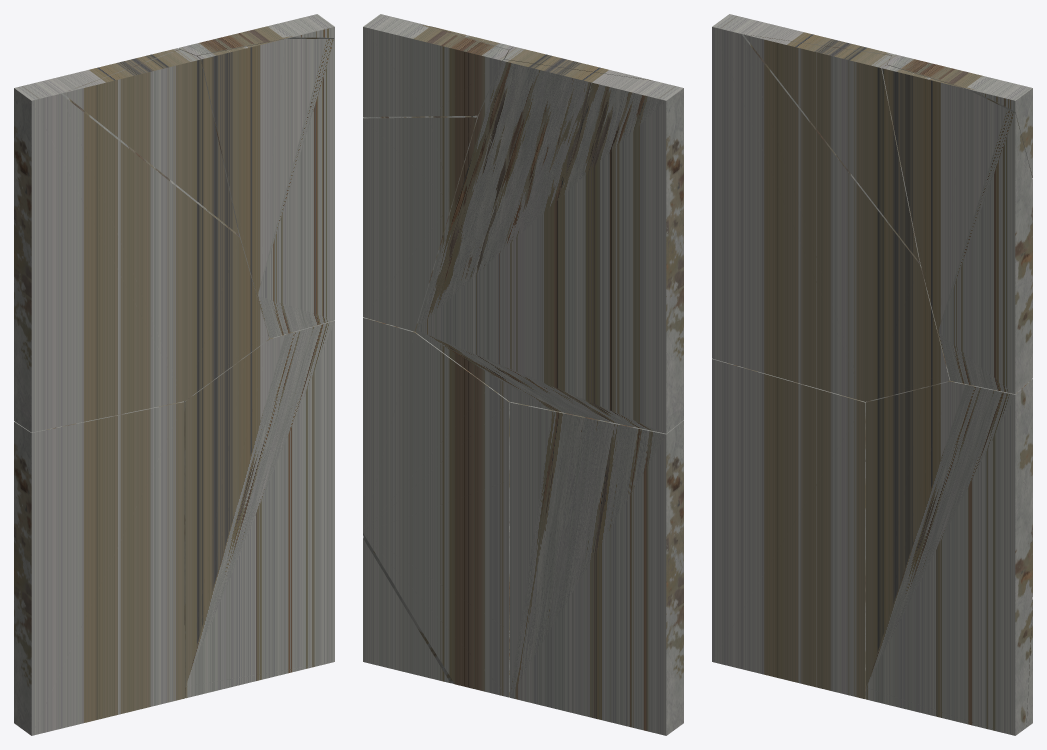
Rendered from wall_broken.fbx.
3 renders of one model, left to right at view 1: azimuth 30°, elevation 25°; view 2: azimuth 150°, elevation 25°; view 3: azimuth 330°, elevation 25°, orthographic.
Parts seen in each view (by area): view 1: Breakable Wall_cell.005, Breakable Wall_cell.004, Breakable Wall_cell, Breakable Wall_cell.002, Breakable Wall_cell.003, Breakable Wall_cell.007; view 2: Breakable Wall_cell.005, Breakable Wall_cell.004, Breakable Wall_cell, Breakable Wall_cell.002, Breakable Wall_cell.007, Breakable Wall_cell.006, Breakable Wall_cell.003; view 3: Breakable Wall_cell.005, Breakable Wall_cell, Breakable Wall_cell.004, Breakable Wall_cell.002, Breakable Wall_cell.003, Breakable Wall_cell.007.
Boxes of the visible parts, bbox=[...] form: Breakable Wall_cell.005: bbox=[14, 48, 268, 432]; Breakable Wall_cell.004: bbox=[14, 401, 184, 735]; Breakable Wall_cell: bbox=[184, 320, 334, 698]; Breakable Wall_cell.002: bbox=[197, 38, 334, 338]; Breakable Wall_cell.003: bbox=[63, 49, 238, 234]; Breakable Wall_cell.007: bbox=[179, 14, 334, 56]; Breakable Wall_cell.005: bbox=[415, 59, 683, 433]; Breakable Wall_cell.004: bbox=[509, 402, 683, 735]; Breakable Wall_cell: bbox=[363, 317, 510, 697]; Breakable Wall_cell.002: bbox=[363, 26, 513, 331]; Breakable Wall_cell.007: bbox=[363, 14, 508, 116]; Breakable Wall_cell.006: bbox=[363, 538, 450, 683]; Breakable Wall_cell.003: bbox=[504, 46, 652, 80]; Breakable Wall_cell.005: bbox=[712, 14, 950, 401]; Breakable Wall_cell: bbox=[865, 379, 1032, 735]; Breakable Wall_cell.004: bbox=[712, 358, 867, 699]; Breakable Wall_cell.002: bbox=[882, 65, 1032, 394]; Breakable Wall_cell.003: bbox=[743, 34, 919, 261]; Breakable Wall_cell.007: bbox=[887, 54, 1032, 177].
Size of the model in its own units: 100 by 200 by 10.
Materials: 1 (1 with a texture image).
